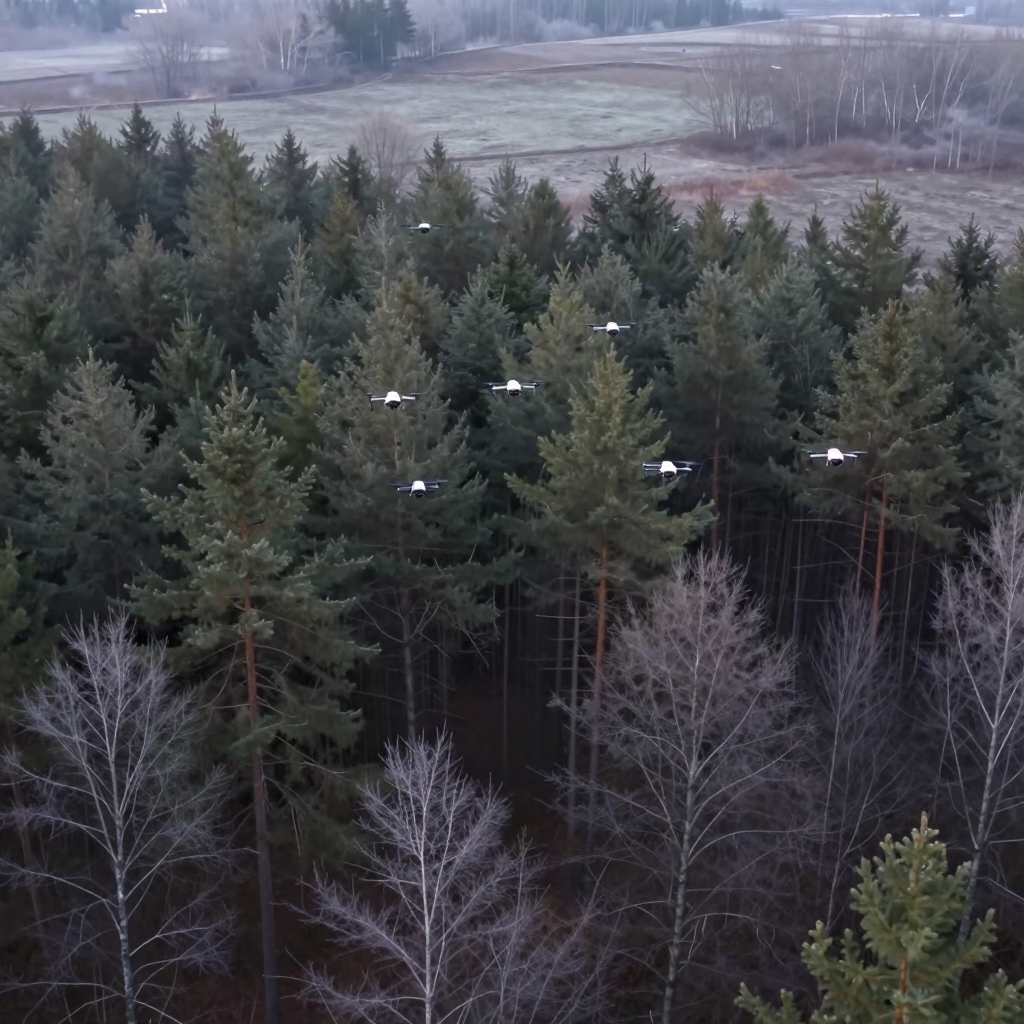drone: (641, 459, 700, 485), (388, 479, 449, 499), (806, 448, 868, 467), (483, 380, 547, 398), (365, 391, 418, 411), (404, 218, 450, 237), (592, 322, 635, 338)
